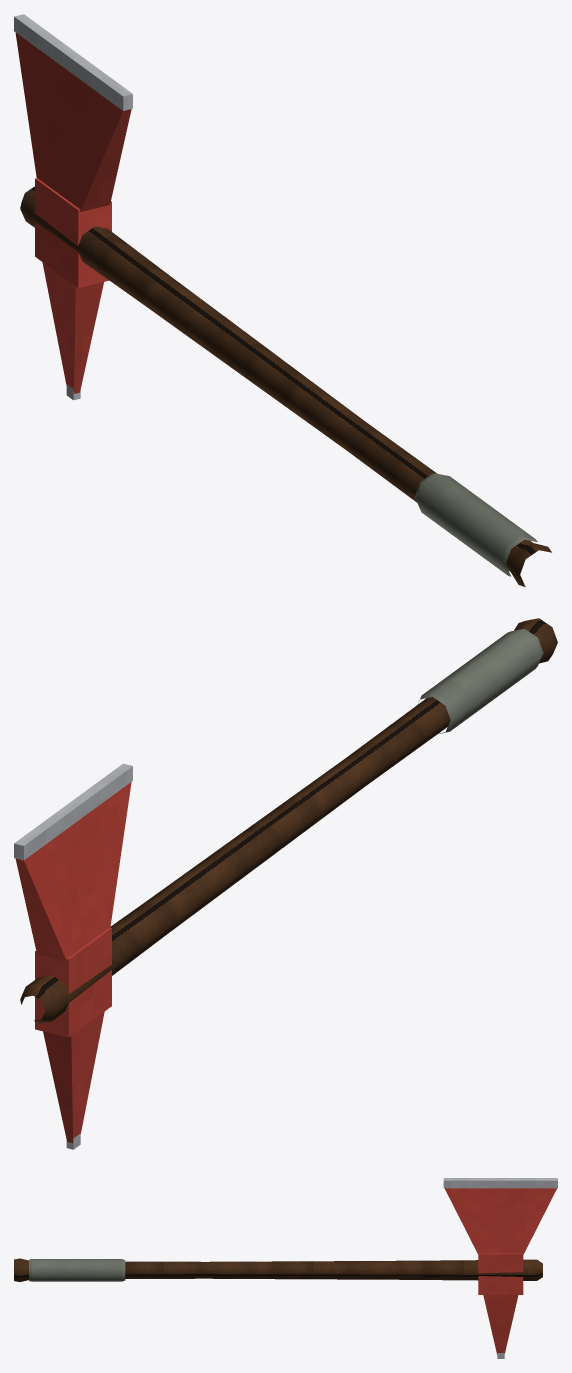
Rendered from item_axe.glb.
3 views of the same model, one above another, from view 1: azimuth 30°, elevation 25°; view 2: azimuth 150°, elevation 25°; view 3: azimuth 270°, elevation 25° (orthographic). The views are drawn at different scales.
Parts seen in each view (by area): view 1: axe; view 2: axe; view 3: axe.
Boxes of the visible parts, x1,y1,x2,y2 form: axe: (14, 14, 551, 586); axe: (14, 618, 557, 1149); axe: (14, 1178, 557, 1358).
Size of the model in its own units: 0.042 by 0.328 by 0.905.
Materials: 5 (5 with a texture image).
